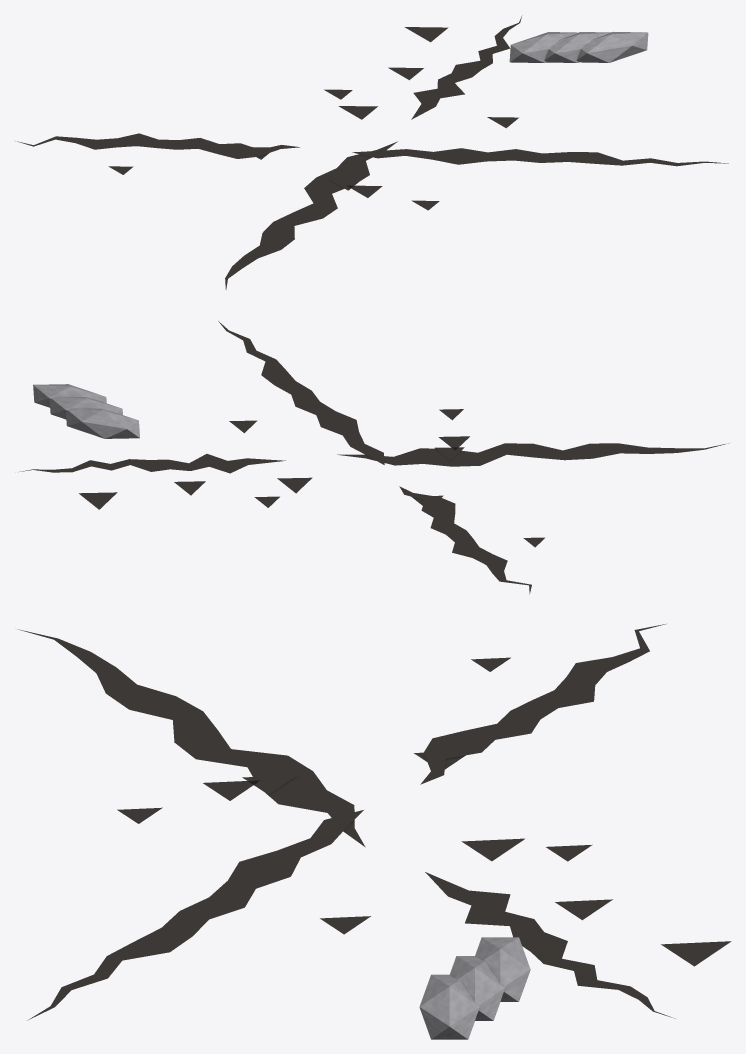
Rendered from trace_lappland.glb.
3 views of the same model, one above another, from view 1: azimuth 30°, elevation 25°; view 2: azimuth 150°, elevation 25°; view 3: azimuth 270°, elevation 25° (orthographic). The views are drawn at different scales.
Parts seen in each view (by area): view 1: trace_lappland; view 2: trace_lappland; view 3: trace_lappland.
Boxes of the visible parts, bbox=[...] form: trace_lappland: bbox=[15, 15, 728, 289]; trace_lappland: bbox=[19, 321, 729, 594]; trace_lappland: bbox=[18, 624, 731, 1039].
Bounding box in the file's own units: 0.8156 × 0.04 × 0.5668.
2 materials, 2 textured.
